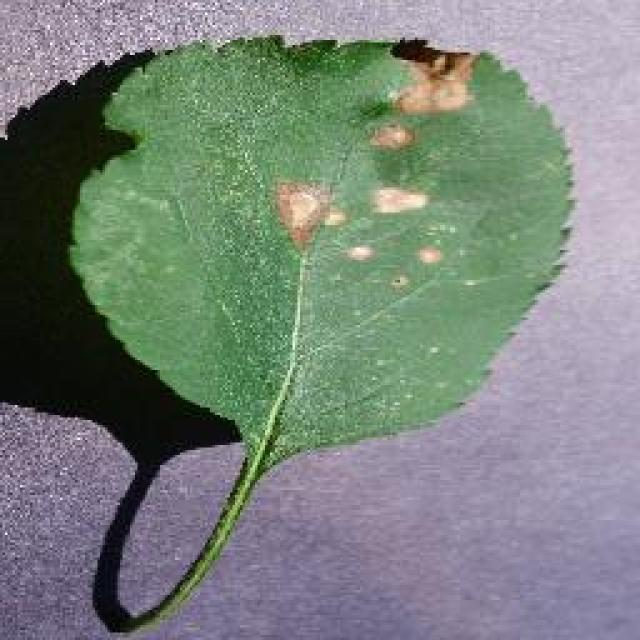apple black rot: (0, 30, 580, 632)
